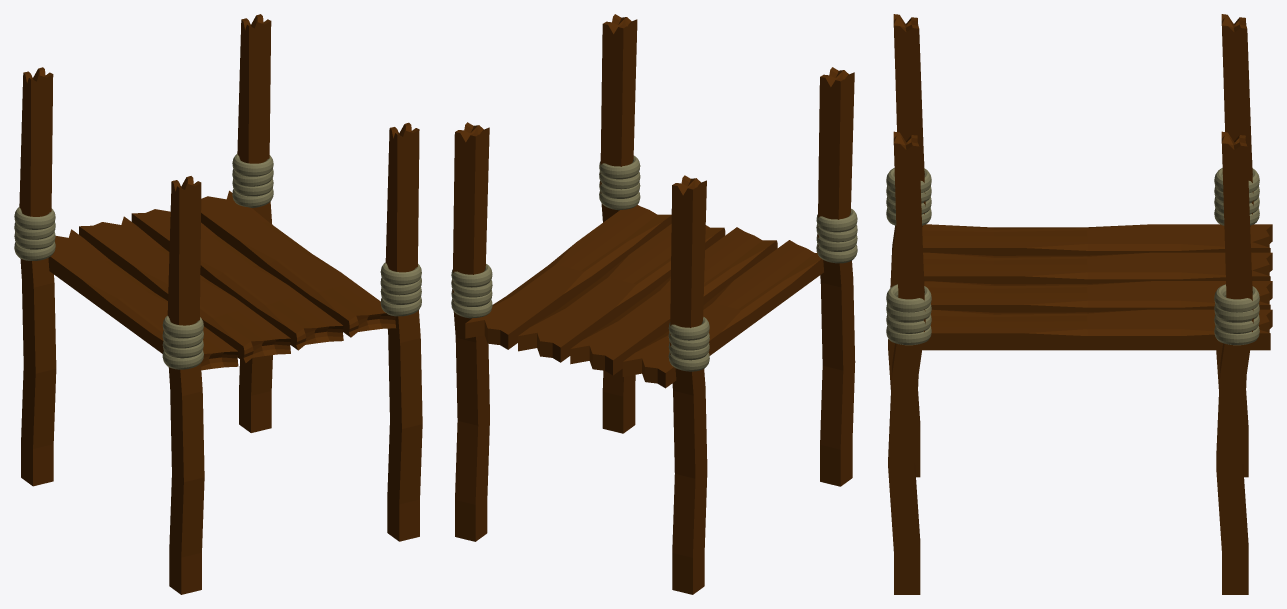
File: Wood Bridge.fbx
The picture shows the model from 3 angles, left to right: view 1: azimuth 30°, elevation 25°; view 2: azimuth 150°, elevation 25°; view 3: azimuth 270°, elevation 25°; orthographic projection. The views are drawn at different scales.
Visible parts, largest first — view 1: Cube.001, Stolb blya.001, Stolb blya.003, Stolb blya, Stolb blya.002; view 2: Cube.001, Stolb blya.003, Stolb blya.001, Stolb blya.002, Stolb blya; view 3: Cube.001, Stolb blya.002, Stolb blya, Stolb blya.001, Stolb blya.003.
Boxes of the visible parts, left/top/right/bottom form: Cube.001: left=48, top=190, right=395, bottom=370; Stolb blya.001: left=162, top=176, right=204, bottom=594; Stolb blya.003: left=14, top=67, right=56, bottom=486; Stolb blya: left=380, top=122, right=422, bottom=541; Stolb blya.002: left=232, top=14, right=273, bottom=432; Cube.001: left=465, top=204, right=823, bottom=388; Stolb blya.003: left=668, top=175, right=709, bottom=594; Stolb blya.001: left=816, top=67, right=857, bottom=486; Stolb blya.002: left=451, top=122, right=492, bottom=541; Stolb blya: left=599, top=14, right=640, bottom=433; Cube.001: left=922, top=224, right=1272, bottom=350; Stolb blya.002: left=1214, top=131, right=1259, bottom=594; Stolb blya: left=886, top=131, right=931, bottom=594; Stolb blya.001: left=886, top=14, right=931, bottom=477; Stolb blya.003: left=1214, top=14, right=1259, bottom=477.
Size of the model in its own units: 347 by 534 by 414.
